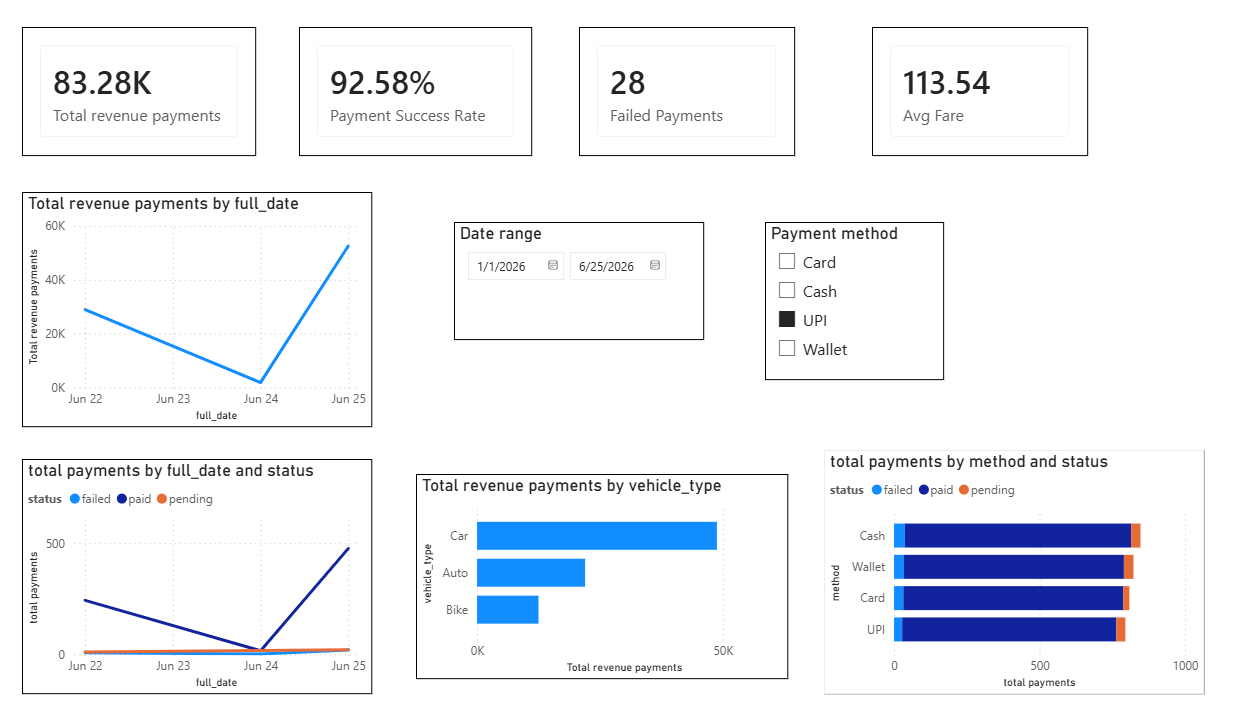

What the dashboard file says about the page in this screenshot:
{"tool":"powerbi","page":{"name":"Payment & Revenue","canvas":[1280,720],"ordinal":3},"visuals":[{"type":"cardVisual","fields":{"Data":["fact_payments.Payment Success Rate"]},"box":[318.9,40,233.3,128.9],"z":0},{"type":"cardVisual","fields":{"Data":["fact_payments.Failed Payments"]},"box":[598.9,40,215.6,128.9],"z":1000},{"type":"cardVisual","fields":{"Data":["fact_payments.Avg Fare"]},"box":[891.1,40,215.6,128.9],"z":2000},{"type":"cardVisual","fields":{"Data":["fact_payments.Total revenue payments"]},"box":[42.3,40.1,234.1,129],"z":3000},{"type":"lineChart","fields":{"Category":["dim_date.full_date"],"Y":["fact_payments.Total revenue payments"]},"box":[42.3,204.8,350.1,235.2],"z":4000},{"type":"barChart","fields":{"Category":["fact_payments.method"],"Series":["fact_payments.status"],"Y":["fact_payments.total payments"]},"box":[843.3,462.6,379.7,243.8],"z":5000},{"type":"lineChart","fields":{"Category":["dim_date.full_date"],"Series":["fact_payments.status"],"Y":["fact_payments.total payments"]},"box":[42.3,471.5,350.1,235.2],"z":6000},{"type":"barChart","fields":{"Category":["dim_driver.vehicle_type"],"Y":["fact_payments.Total revenue payments"]},"box":[435.7,486.6,371.7,204.8],"z":7000},{"type":"slicer","title":"Date range","fields":{"Values":["dim_date.full_date"]},"box":[473.6,234.8,249.8,117.9],"z":8000},{"type":"slicer","title":"Payment method","fields":{"Values":["fact_payments.method"]},"box":[784.7,235.2,178.8,158.2],"z":9000}]}

Visuals, with their boxes in screenshot pixels (x1, y1, x2, y2), scaled from the page's 1280x720 canvas onto the 1235x708 screenshot:
cardVisual - fact_payments.Payment Success Rate: [x1=308, y1=39, x2=533, y2=166]
cardVisual - fact_payments.Failed Payments: [x1=578, y1=39, x2=786, y2=166]
cardVisual - fact_payments.Avg Fare: [x1=860, y1=39, x2=1068, y2=166]
cardVisual - fact_payments.Total revenue payments: [x1=41, y1=39, x2=267, y2=166]
lineChart - dim_date.full_date x fact_payments.Total revenue payments: [x1=41, y1=201, x2=379, y2=433]
barChart - fact_payments.method x fact_payments.status: [x1=814, y1=455, x2=1180, y2=695]
lineChart - dim_date.full_date x fact_payments.status: [x1=41, y1=464, x2=379, y2=695]
barChart - dim_driver.vehicle_type x fact_payments.Total revenue payments: [x1=420, y1=478, x2=779, y2=680]
"Date range" slicer: [x1=457, y1=231, x2=698, y2=347]
"Payment method" slicer: [x1=757, y1=231, x2=930, y2=387]
